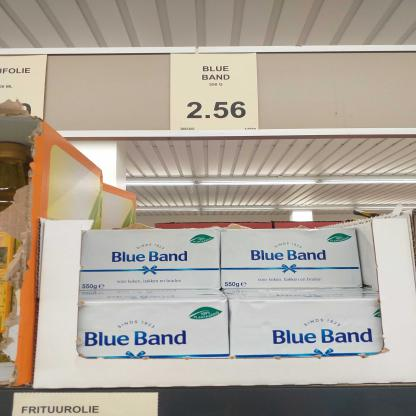prtg: (171, 54, 260, 132)
